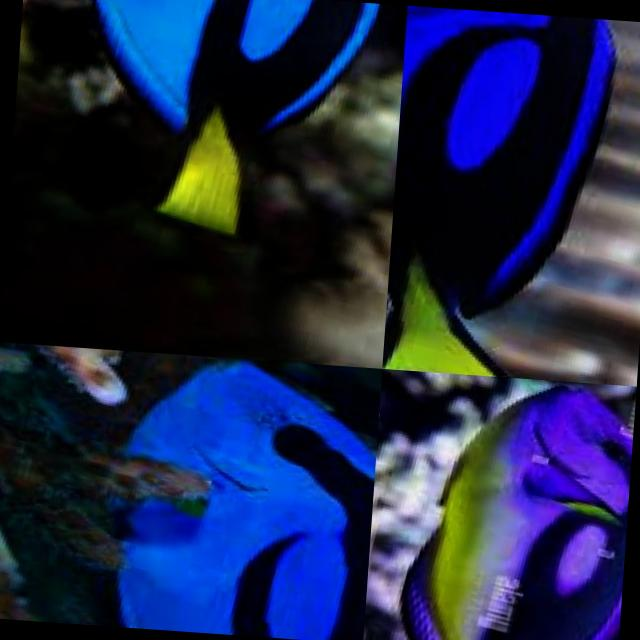BlueTang: (3, 0, 406, 283), (21, 344, 380, 640), (380, 5, 640, 386), (361, 368, 636, 640)
